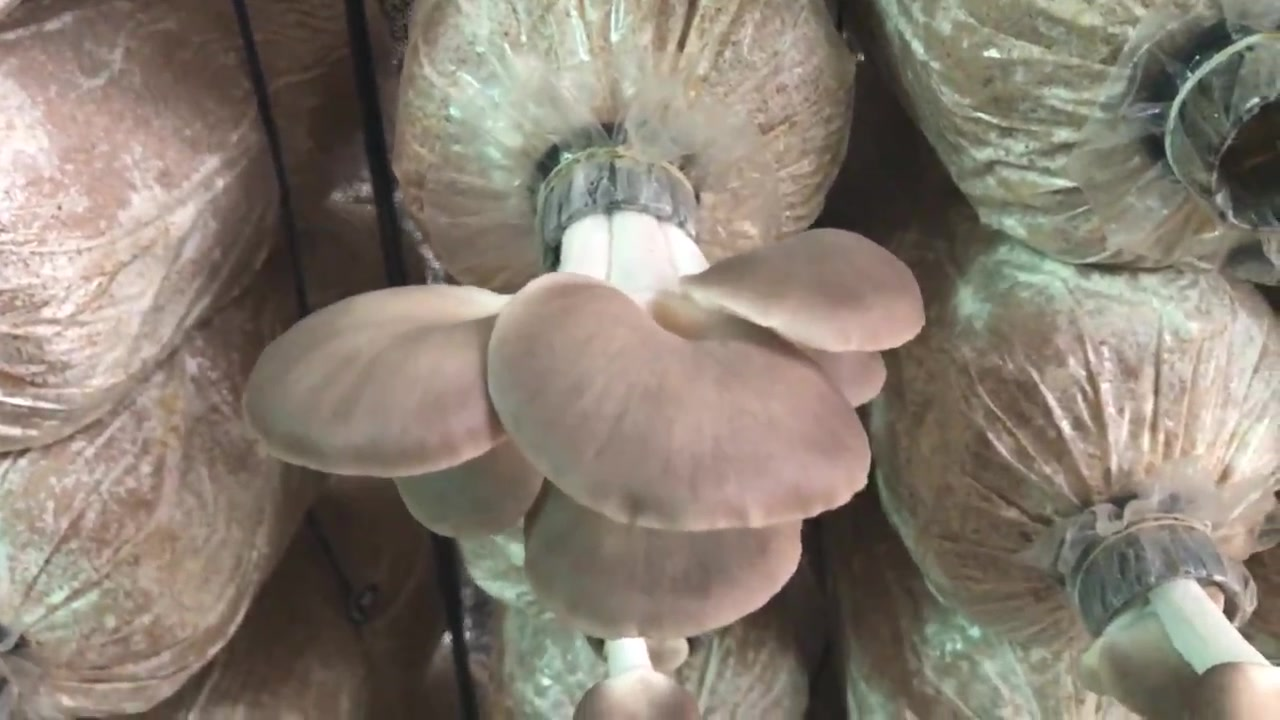nam: (246, 155, 923, 641), (1083, 517, 1280, 720), (577, 634, 696, 720)
